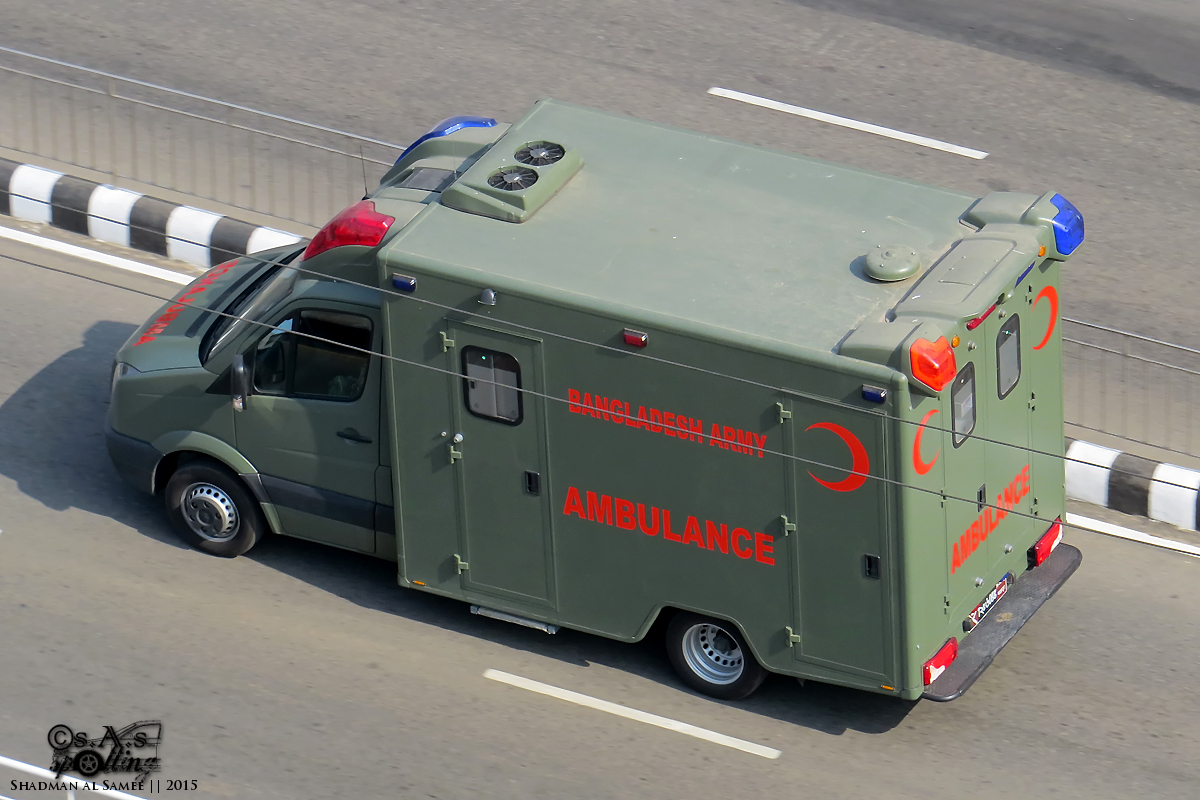Ambulance: (80, 79, 1123, 727)
